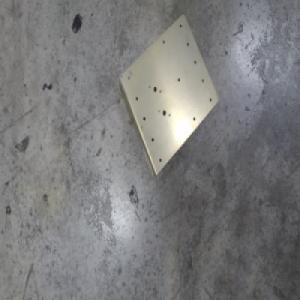MetalSheet: (116, 12, 219, 179)
